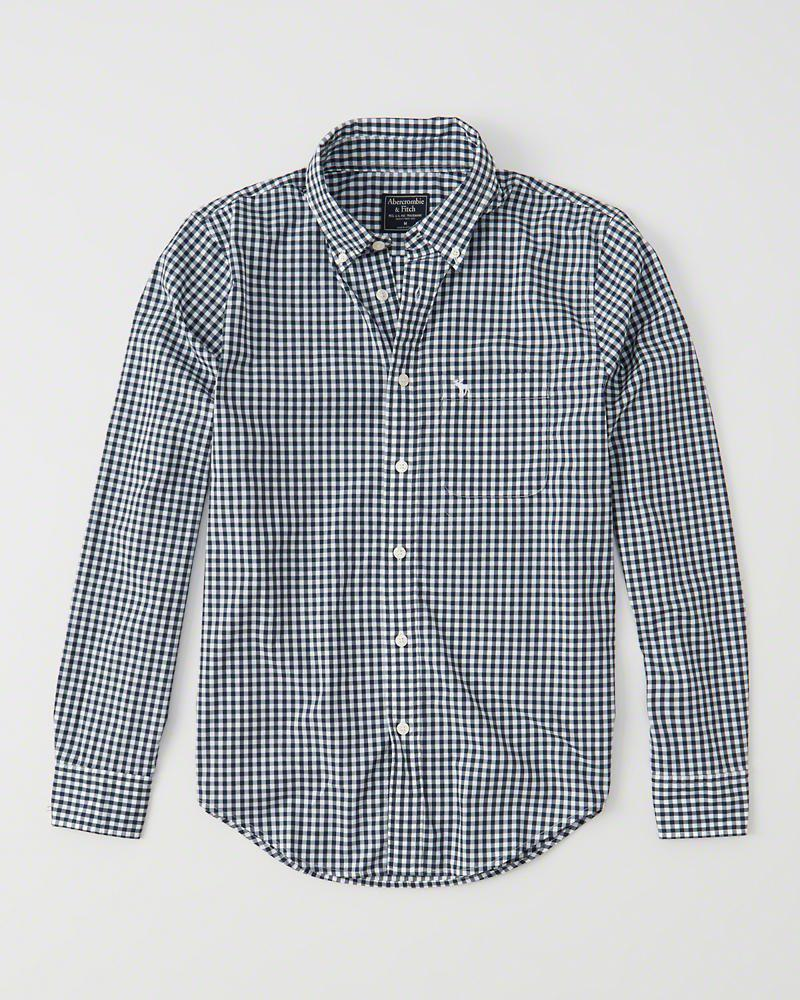teeshirt: (55, 124, 767, 896)
